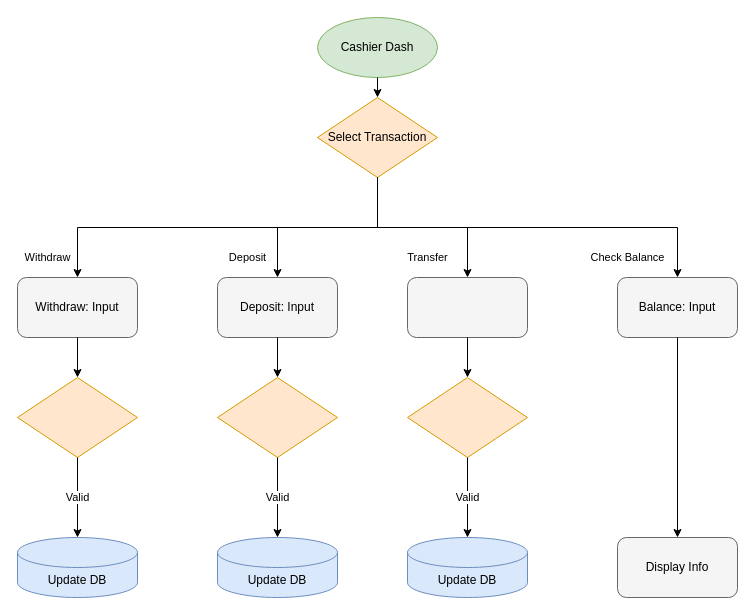
Image size: 755x615. Some labels were removed from this diagram. The centre of each missing label's shape, as x and y in pixels:
Check Type: point 277,417
Check Type/Bal: point 77,417
Transfer: Input: point 467,307
Validate Both: point 467,417
